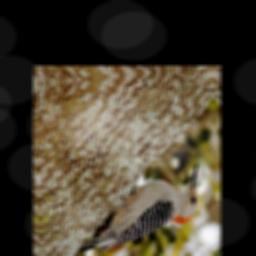Woodpecker: (65, 160, 208, 256)
